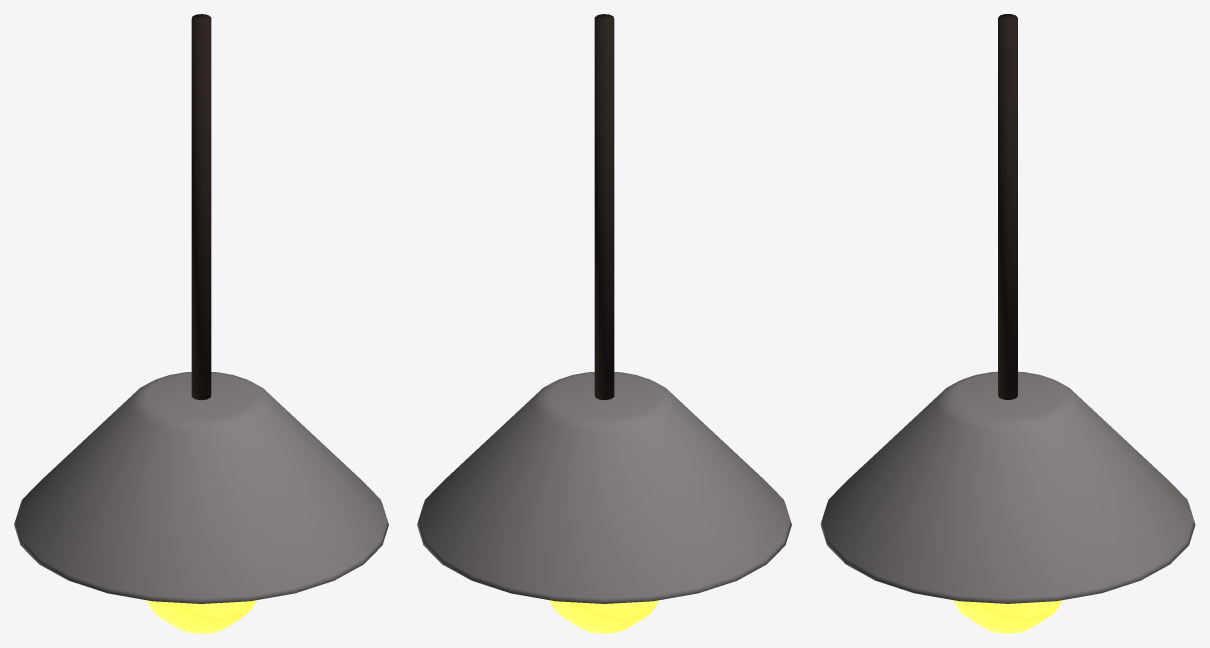
File: PR3D_Environment_PendantLight.fbx
3 views of the same model, side by side, from view 1: azimuth 30°, elevation 25°; view 2: azimuth 150°, elevation 25°; view 3: azimuth 270°, elevation 25° (orthographic).
Visible parts, largest first — view 1: Visual_LightShade, Visual_LightCord, Visual_LightBulb; view 2: Visual_LightShade, Visual_LightCord, Visual_LightBulb; view 3: Visual_LightShade, Visual_LightCord, Visual_LightBulb.
Boxes of the visible parts, x1=… form: Visual_LightShade: x1=14, y1=372, x2=388, y2=603; Visual_LightCord: x1=191, y1=14, x2=211, y2=400; Visual_LightBulb: x1=146, y1=600, x2=256, y2=633; Visual_LightShade: x1=417, y1=372, x2=791, y2=603; Visual_LightCord: x1=594, y1=14, x2=614, y2=400; Visual_LightBulb: x1=549, y1=600, x2=659, y2=633; Visual_LightShade: x1=820, y1=371, x2=1195, y2=603; Visual_LightCord: x1=998, y1=14, x2=1017, y2=399; Visual_LightBulb: x1=953, y1=600, x2=1062, y2=633.
Bounding box in the file's own units: 0.9355 × 1.68 × 0.9355.
